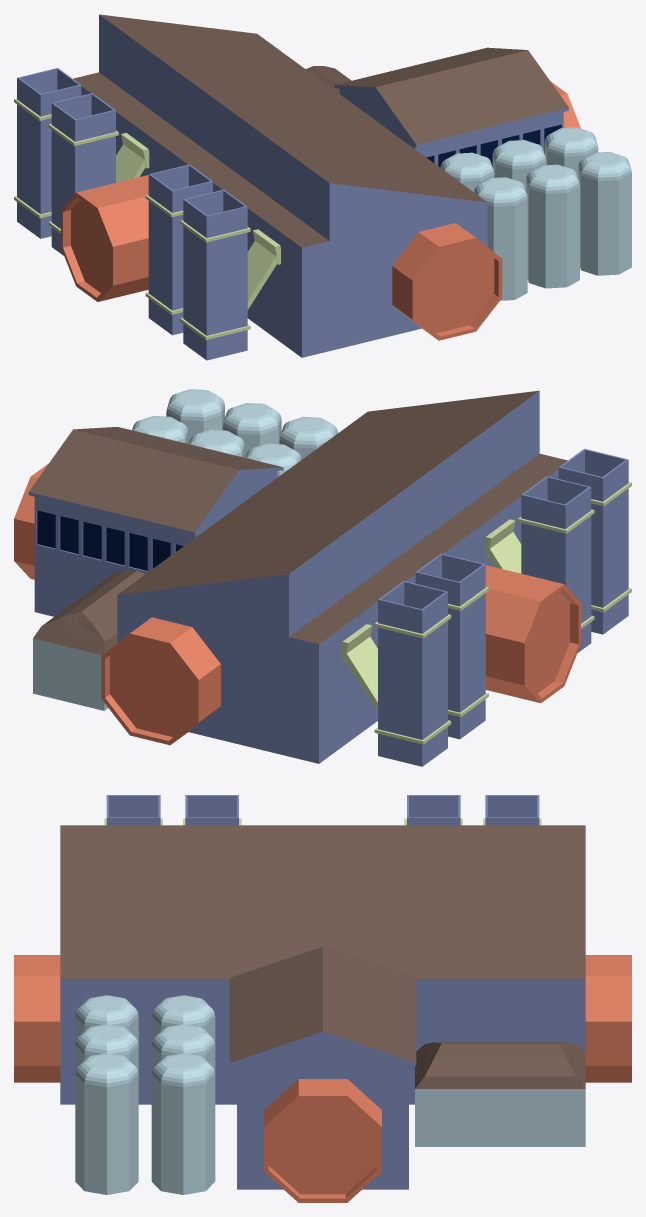
The model's file is Recycling Plant.fbx.
The picture shows the model from 3 angles, top to bottom: view 1: azimuth 30°, elevation 25°; view 2: azimuth 150°, elevation 25°; view 3: azimuth 270°, elevation 25°; orthographic projection. The views are drawn at different scales.
Visible parts, largest first — view 1: Recycling Plant; view 2: Recycling Plant; view 3: Recycling Plant.
Boxes of the visible parts, x1,y1,x2,y2 form: Recycling Plant: (14,14,631,360); Recycling Plant: (14,389,631,766); Recycling Plant: (14,795,631,1202).
Size of the model in its own units: 1012 by 347 by 1012.
